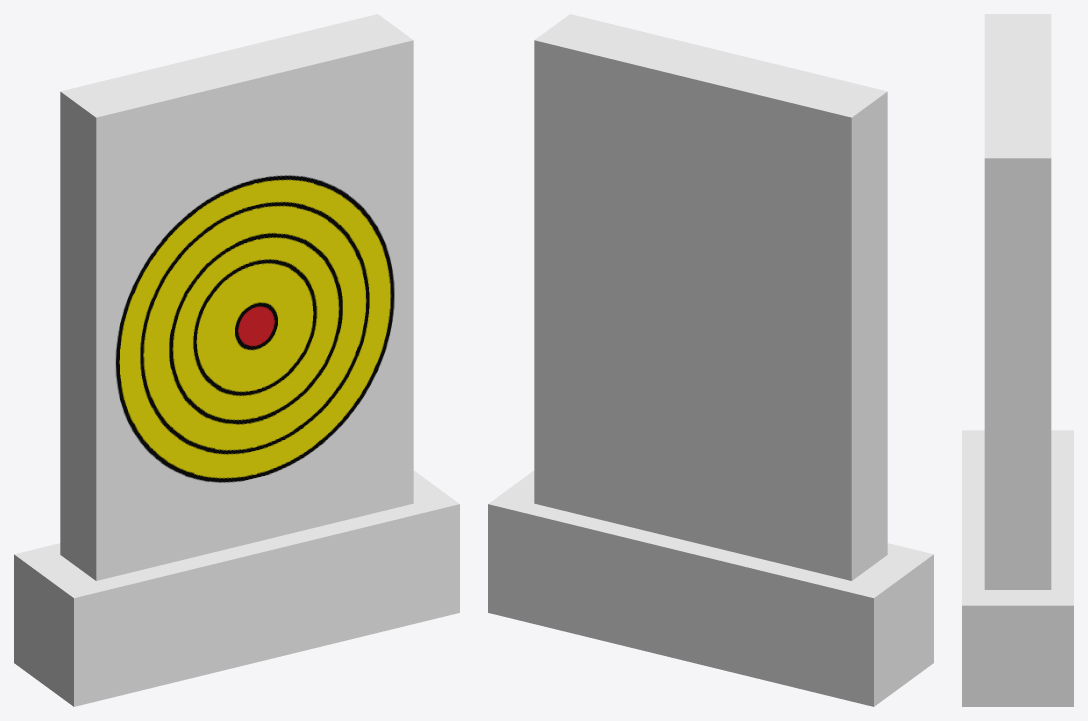
Rendered from matoon.obj.
The picture shows the model from 3 angles, left to right: view 1: azimuth 30°, elevation 25°; view 2: azimuth 150°, elevation 25°; view 3: azimuth 270°, elevation 25°; orthographic projection. The views are drawn at different scales.
Visible parts, largest first — view 1: pCube2, pCube1; view 2: pCube2, pCube1; view 3: pCube2, pCube1.
Boxes of the visible parts, <box> form: pCube2: <box>60,14,413,580</box>; pCube1: <box>14,470,459,706</box>; pCube2: <box>534,14,887,580</box>; pCube1: <box>488,470,933,706</box>; pCube2: <box>984,14,1051,589</box>; pCube1: <box>962,430,1073,706</box>.
Bounding box in the file's own units: 3.71 × 5.26 × 1.
Materials: 2 (1 with a texture image).
